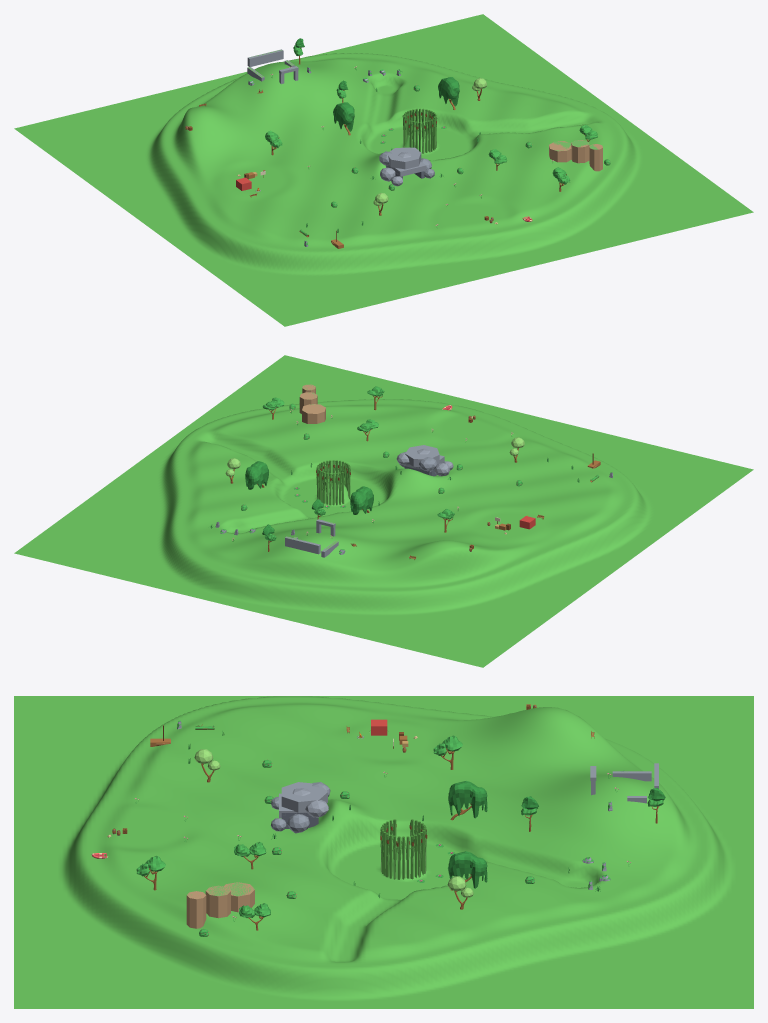
The model's file is level.glb.
3 renders of one model, top to bottom at view 1: azimuth 30°, elevation 25°; view 2: azimuth 150°, elevation 25°; view 3: azimuth 270°, elevation 25°, orthographic. The views are drawn at different scales.
Parts seen in each view (by area): view 1: ground, cave rock; view 2: ground, Willow_2.001, Willow_2.002; view 3: ground, Willow_2.002, Willow_2.001, cave rock, grove ledge 2, grove ledge 3, grove ledge 1.
Part boxes in pixels (x1,y1,x2,y2): ground: (14,14,753,326); cave rock: (388,147,421,169); ground: (14,355,753,667); Willow_2.001: (245,461,268,489); Willow_2.002: (350,486,373,514); ground: (14,696,753,1008); Willow_2.002: (448,781,487,820); Willow_2.001: (448,851,487,890); cave rock: (281,782,327,812); grove ledge 2: (205,885,230,918); grove ledge 3: (186,891,206,928); grove ledge 1: (224,882,254,912).
Bounding box in the file's own units: 152 × 17.14 × 152.
